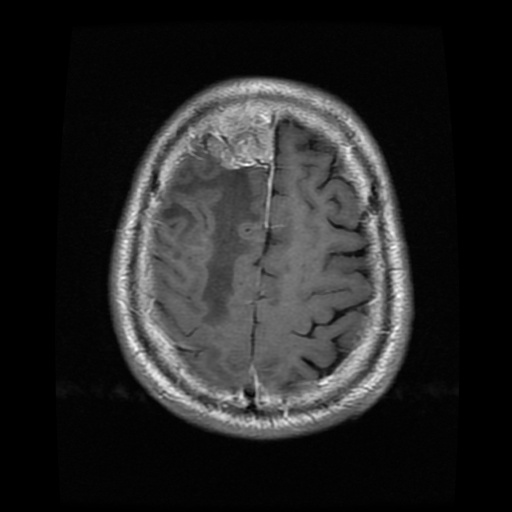meningioma: (205, 110, 273, 169)
